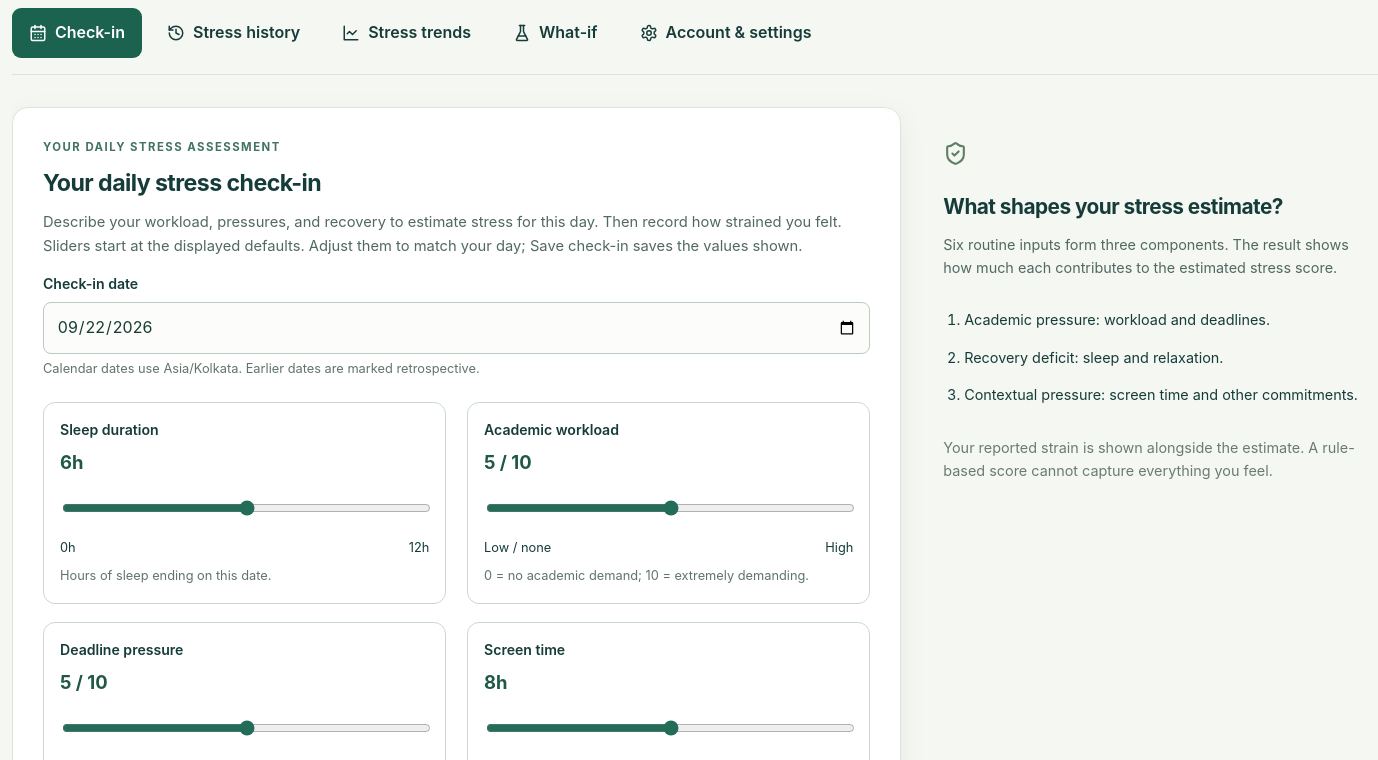
Test: checks history version when loading another page
Click the button "Stress history". click: (234, 33)
box: [150, 8, 317, 58]
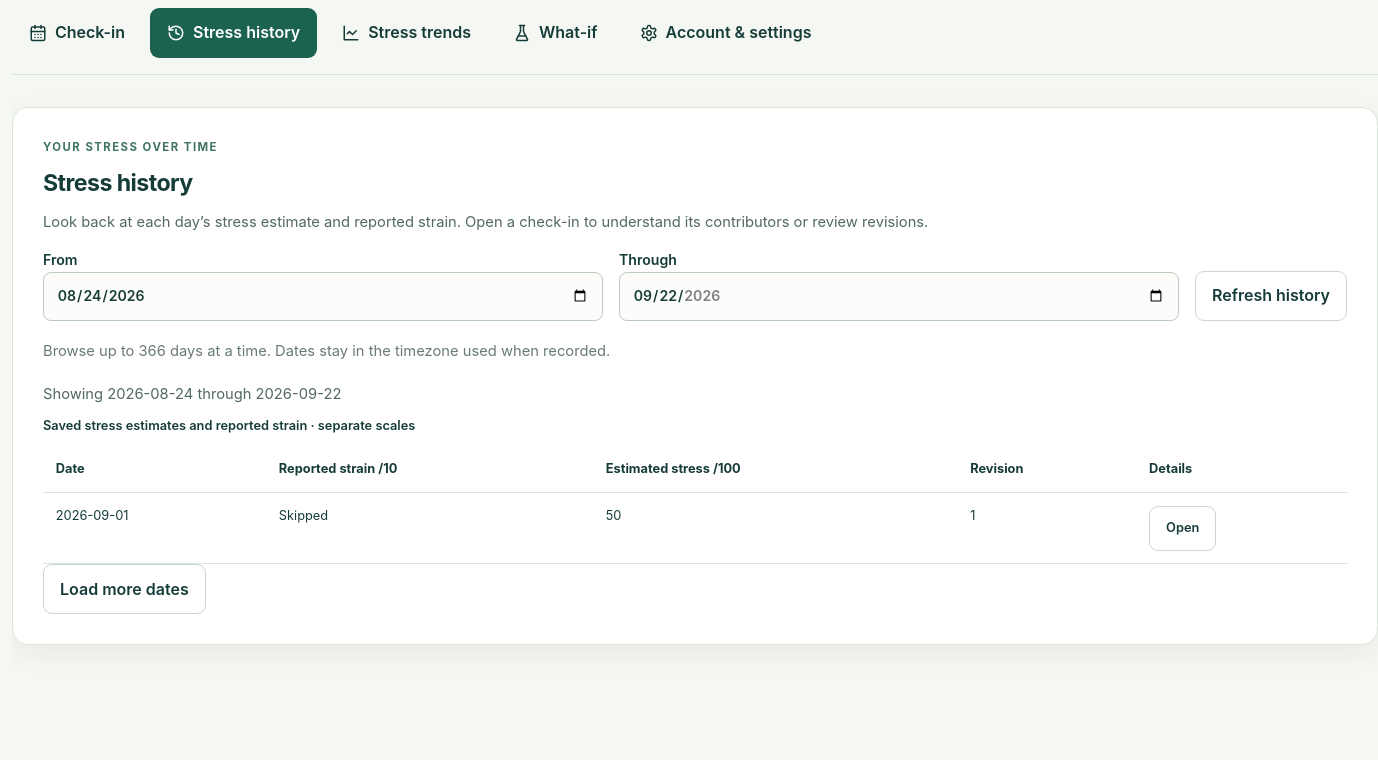
Click the button "Load more dates". click: (124, 589)
box: [43, 564, 206, 614]
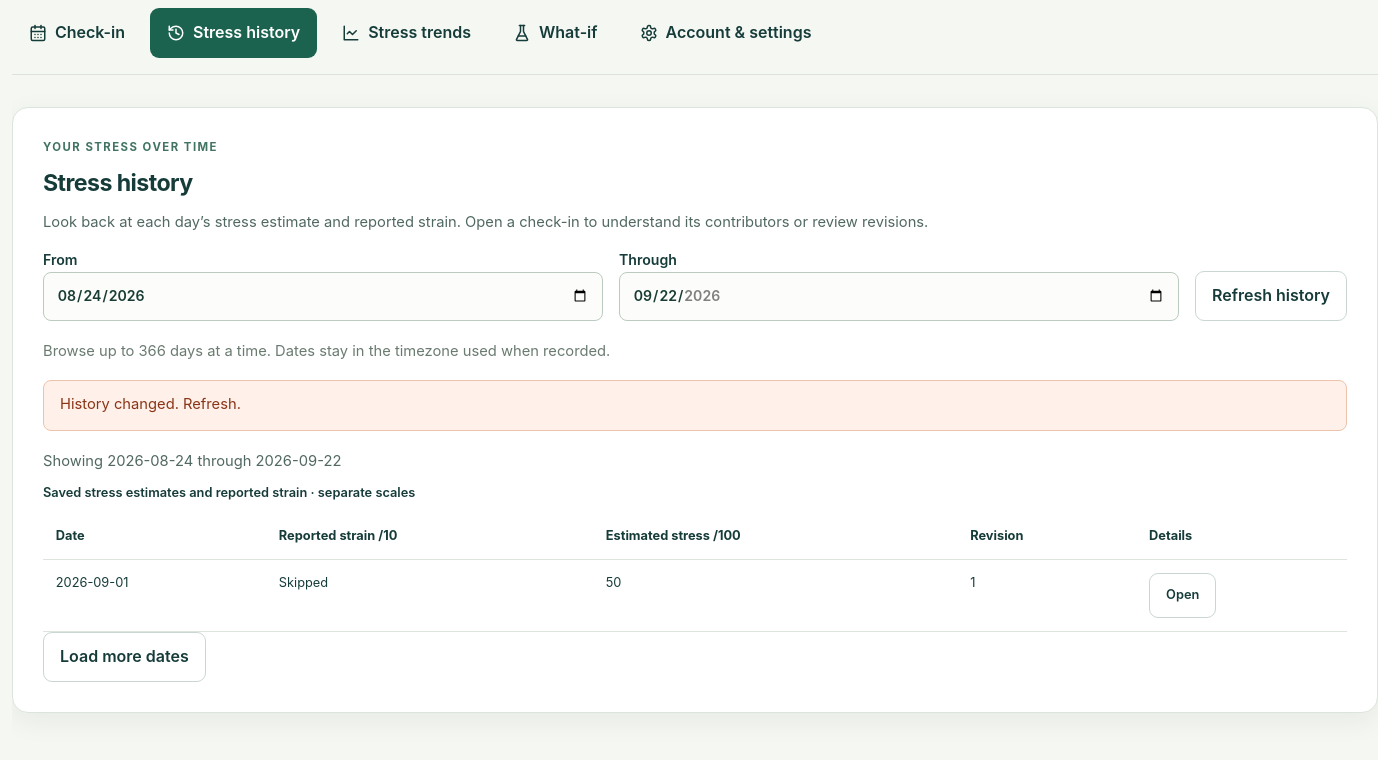
Result: the number of buttons named "Open 2026-09-01" is 1 at [1149, 573, 1216, 618]
Result: the text "History changed. Refresh." is shown at [43, 380, 1347, 431]
